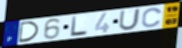4: (94, 11, 111, 34)
6: (43, 17, 63, 40)
C: (141, 7, 164, 29)
D: (18, 21, 41, 44)
L: (69, 15, 89, 37)
U: (118, 8, 142, 31)
